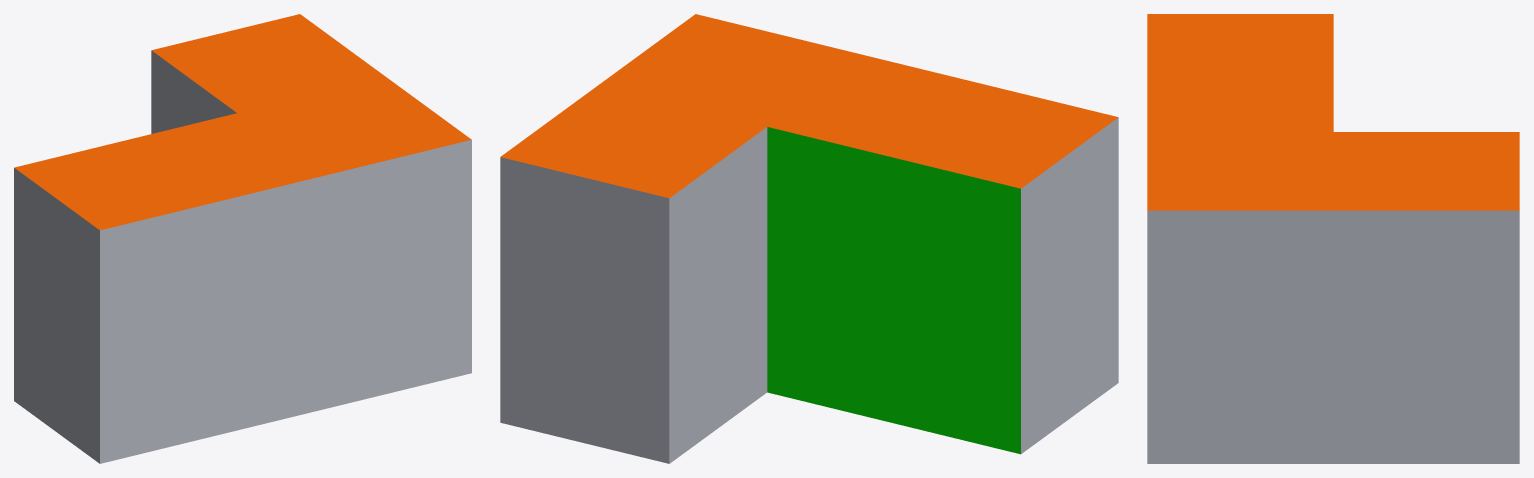
Rendered from 3D-second.gltf.
3 renders of one model, left to right at view 1: azimuth 30°, elevation 25°; view 2: azimuth 150°, elevation 25°; view 3: azimuth 270°, elevation 25°, orthographic. The views are drawn at different scales.
Visible parts, largest first — view 1: 3DGeom-10, 3DGeom-9; view 2: 3DGeom-10, 3DGeom-11, 3DGeom-9; view 3: 3DGeom-10, 3DGeom-9.
Boxes of the visible parts, x1,y1,x2,y2 form: 3DGeom-10: (14,50,471,463); 3DGeom-9: (14,14,471,230); 3DGeom-10: (500,117,1118,463); 3DGeom-11: (767,127,1020,454); 3DGeom-9: (501,14,1118,198); 3DGeom-10: (1147,210,1519,463); 3DGeom-9: (1147,14,1519,210).
Size of the model in its own units: 0.5 by 0.3 by 0.4.
